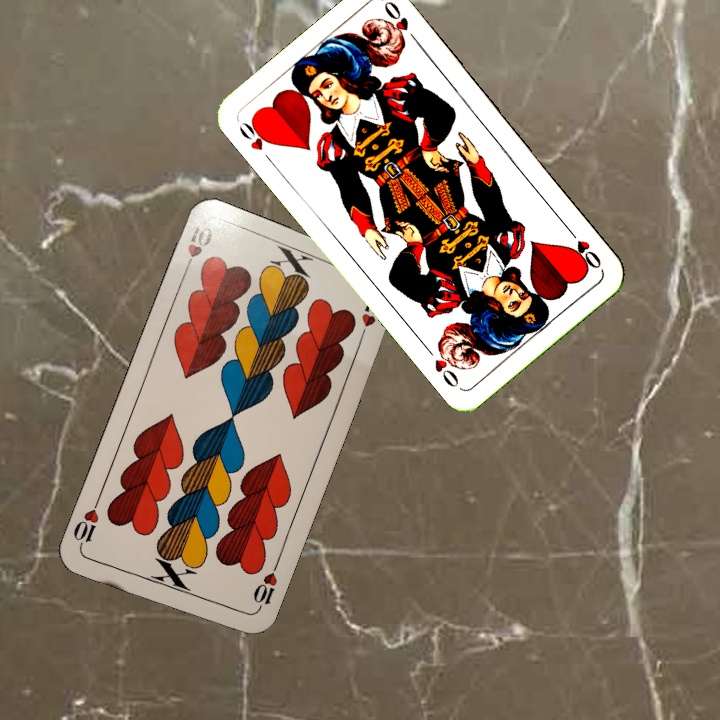H10: (179, 218, 216, 277), (249, 559, 281, 616)
HO: (235, 114, 277, 167), (562, 222, 604, 272)
